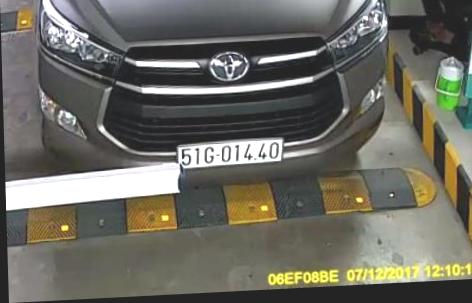License_Plate: (172, 128, 288, 171)
